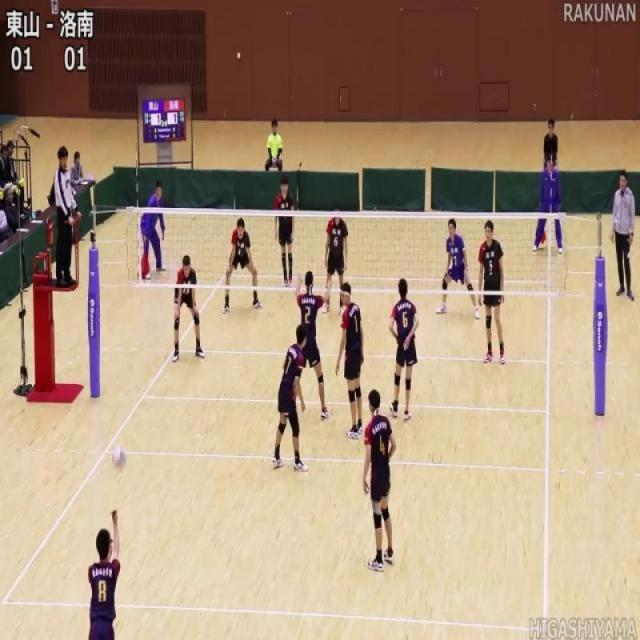volleyball: (110, 442, 128, 476)
